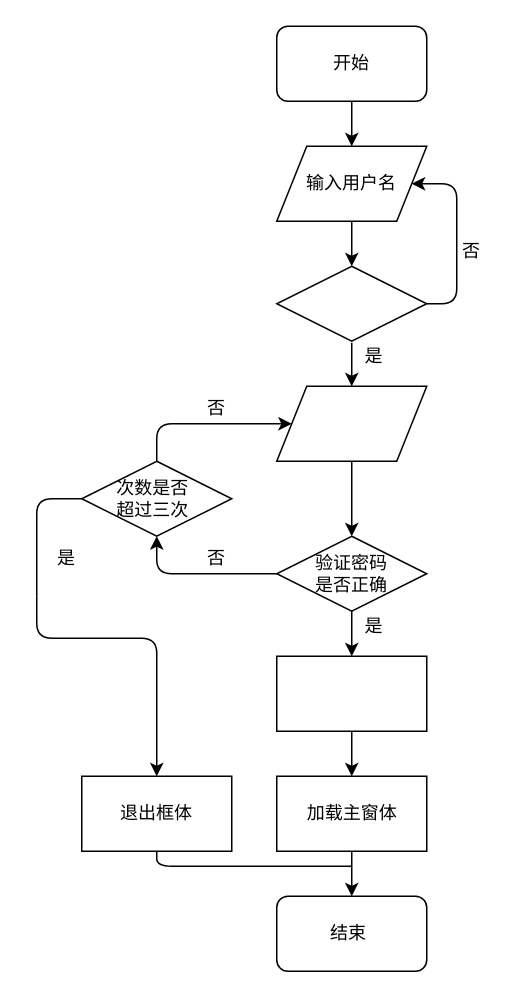
Image size: 528x998. Some labels were removed from this diagram. Here are the shapes that lost their labels. From the top down, the centre of each, then its label:
At [351,303]: "验证用户是否存在".
At [351,423]: "输入密码".
At [351,693]: "登陆成功".
